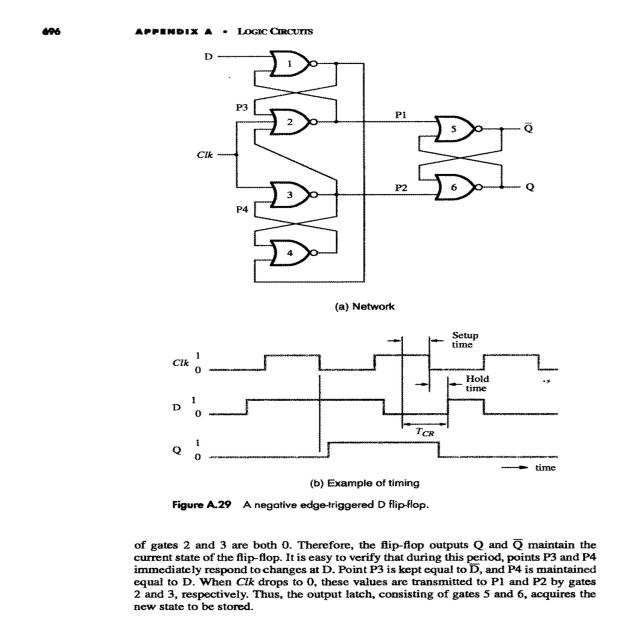diagram: (146, 38, 598, 515)
